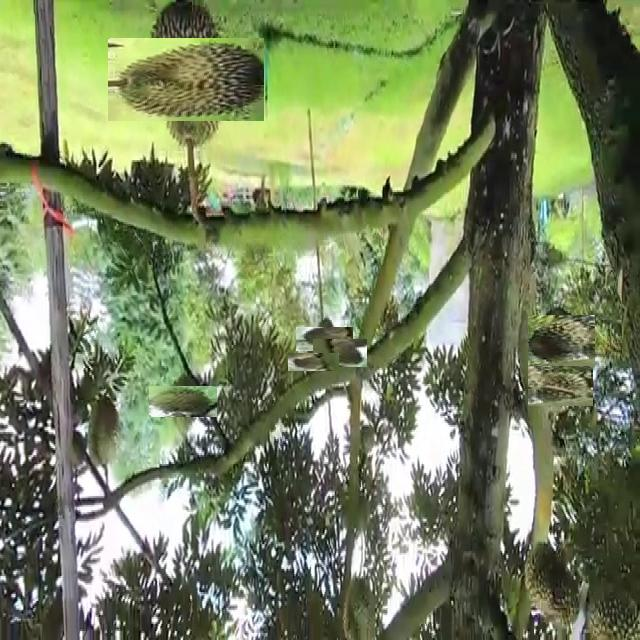durian: (126, 20, 246, 140), (524, 540, 583, 632), (531, 311, 591, 371), (84, 390, 124, 471), (534, 360, 587, 412), (158, 377, 208, 427), (320, 333, 361, 374), (304, 319, 344, 359), (295, 344, 331, 379)
